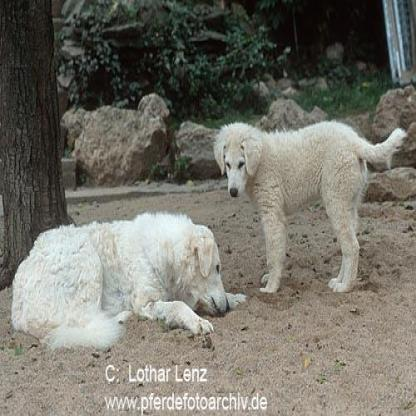kuvasz: (8, 206, 245, 350), (212, 116, 405, 290)
